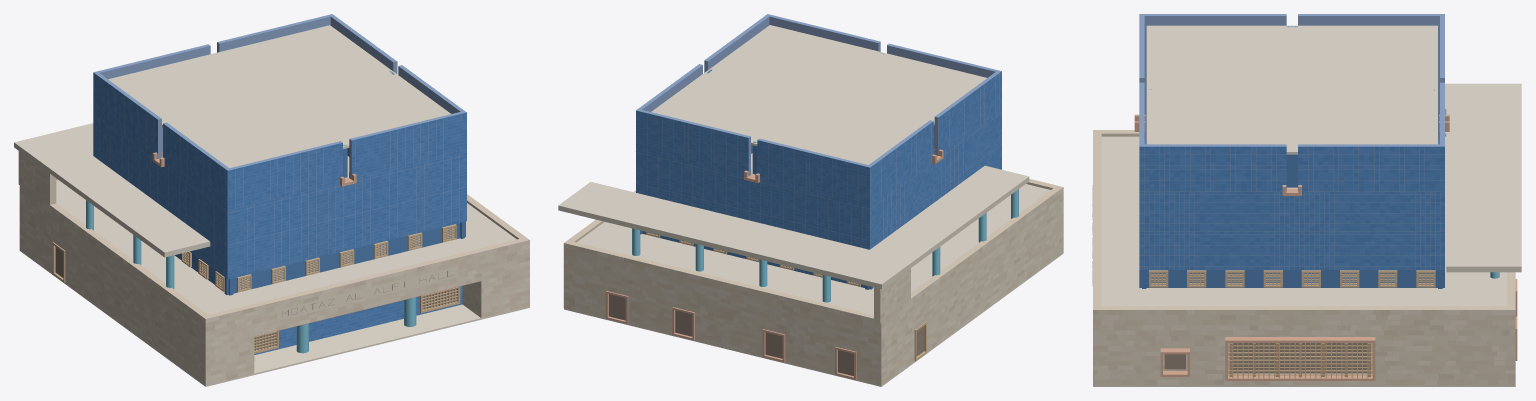
File: auc_moataz_al_alfi_hall_v1.glb
3 renders of one model, left to right at view 1: azimuth 30°, elevation 25°; view 2: azimuth 150°, elevation 25°; view 3: azimuth 270°, elevation 25°, orthographic. The views are drawn at different scales.
Visible parts, largest first — view 1: roof, tile_joint, tile3, tile2, tile1, tile4, tile5, tile0, stone_base, stone_1, floor, stone_0 (+13 smaller); view 2: roof, tile_joint, tile1, tile0, tile4, tile5, tile2, tile3, stone_base, stone_1, stone_0, stone_5 (+13 smaller); view 3: roof, tile_joint, tile3, stone_base, tile0, tile2, tile1, tile4, tile5, wood_light, blue_lo, stone_1 (+13 smaller).
Boxes of the visible parts, x1,y1,x2,y2 form: roof: [14, 25, 516, 314]; tile_joint: [93, 14, 466, 351]; tile3: [93, 77, 466, 354]; tile2: [93, 81, 466, 352]; tile1: [93, 61, 466, 354]; tile4: [93, 68, 466, 353]; tile5: [93, 65, 466, 350]; tile0: [93, 73, 466, 347]; stone_base: [19, 155, 529, 383]; stone_1: [18, 153, 529, 381]; floor: [19, 249, 529, 386]; stone_0: [19, 167, 529, 378]; roof: [558, 25, 1050, 314]; tile_joint: [636, 14, 1001, 249]; tile1: [636, 71, 1001, 248]; tile0: [636, 78, 1001, 246]; tile4: [636, 73, 1001, 249]; tile5: [636, 78, 1001, 249]; tile2: [636, 79, 1001, 244]; tile3: [636, 74, 1001, 247]; stone_base: [564, 179, 1063, 385]; stone_1: [563, 192, 1063, 378]; stone_0: [563, 192, 1063, 375]; stone_5: [563, 197, 1063, 384]; roof: [1101, 25, 1521, 306]; tile_joint: [1139, 14, 1444, 269]; tile3: [1139, 146, 1444, 269]; stone_base: [1093, 130, 1515, 385]; tile0: [1139, 146, 1444, 269]; tile2: [1139, 146, 1444, 269]; tile1: [1139, 146, 1444, 269]; tile4: [1139, 146, 1444, 269]; tile5: [1139, 146, 1444, 269]; wood_light: [1149, 270, 1435, 378]; blue_lo: [1139, 26, 1444, 288]; stone_1: [1093, 310, 1515, 384].
Bounding box in the file's own units: 32.98 × 18 × 32.29.
